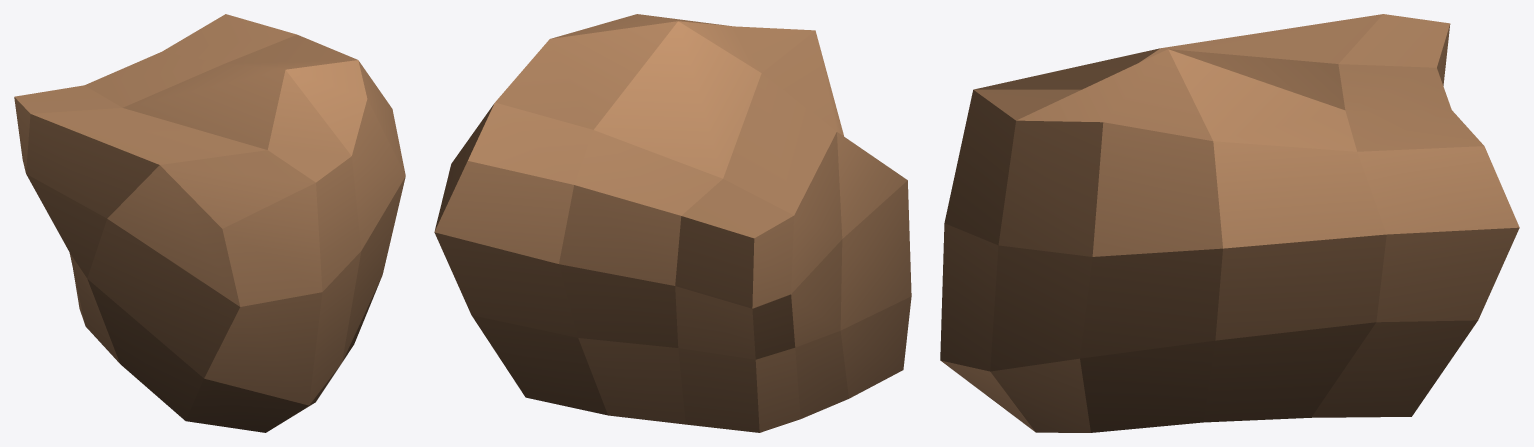
File: stone_c.fbx
3 renders of one model, left to right at view 1: azimuth 30°, elevation 25°; view 2: azimuth 150°, elevation 25°; view 3: azimuth 270°, elevation 25°, orthographic. The views are drawn at different scales.
Parts seen in each view (by area): view 1: Cube.569; view 2: Cube.569; view 3: Cube.569.
Boxes of the visible parts, box(x1,y1,x2,y2) form: Cube.569: box(14, 14, 405, 432); Cube.569: box(434, 14, 911, 432); Cube.569: box(940, 14, 1519, 432).
Size of the model in its own units: 3.81 by 3.63 by 4.65.
1 material, 1 textured.
